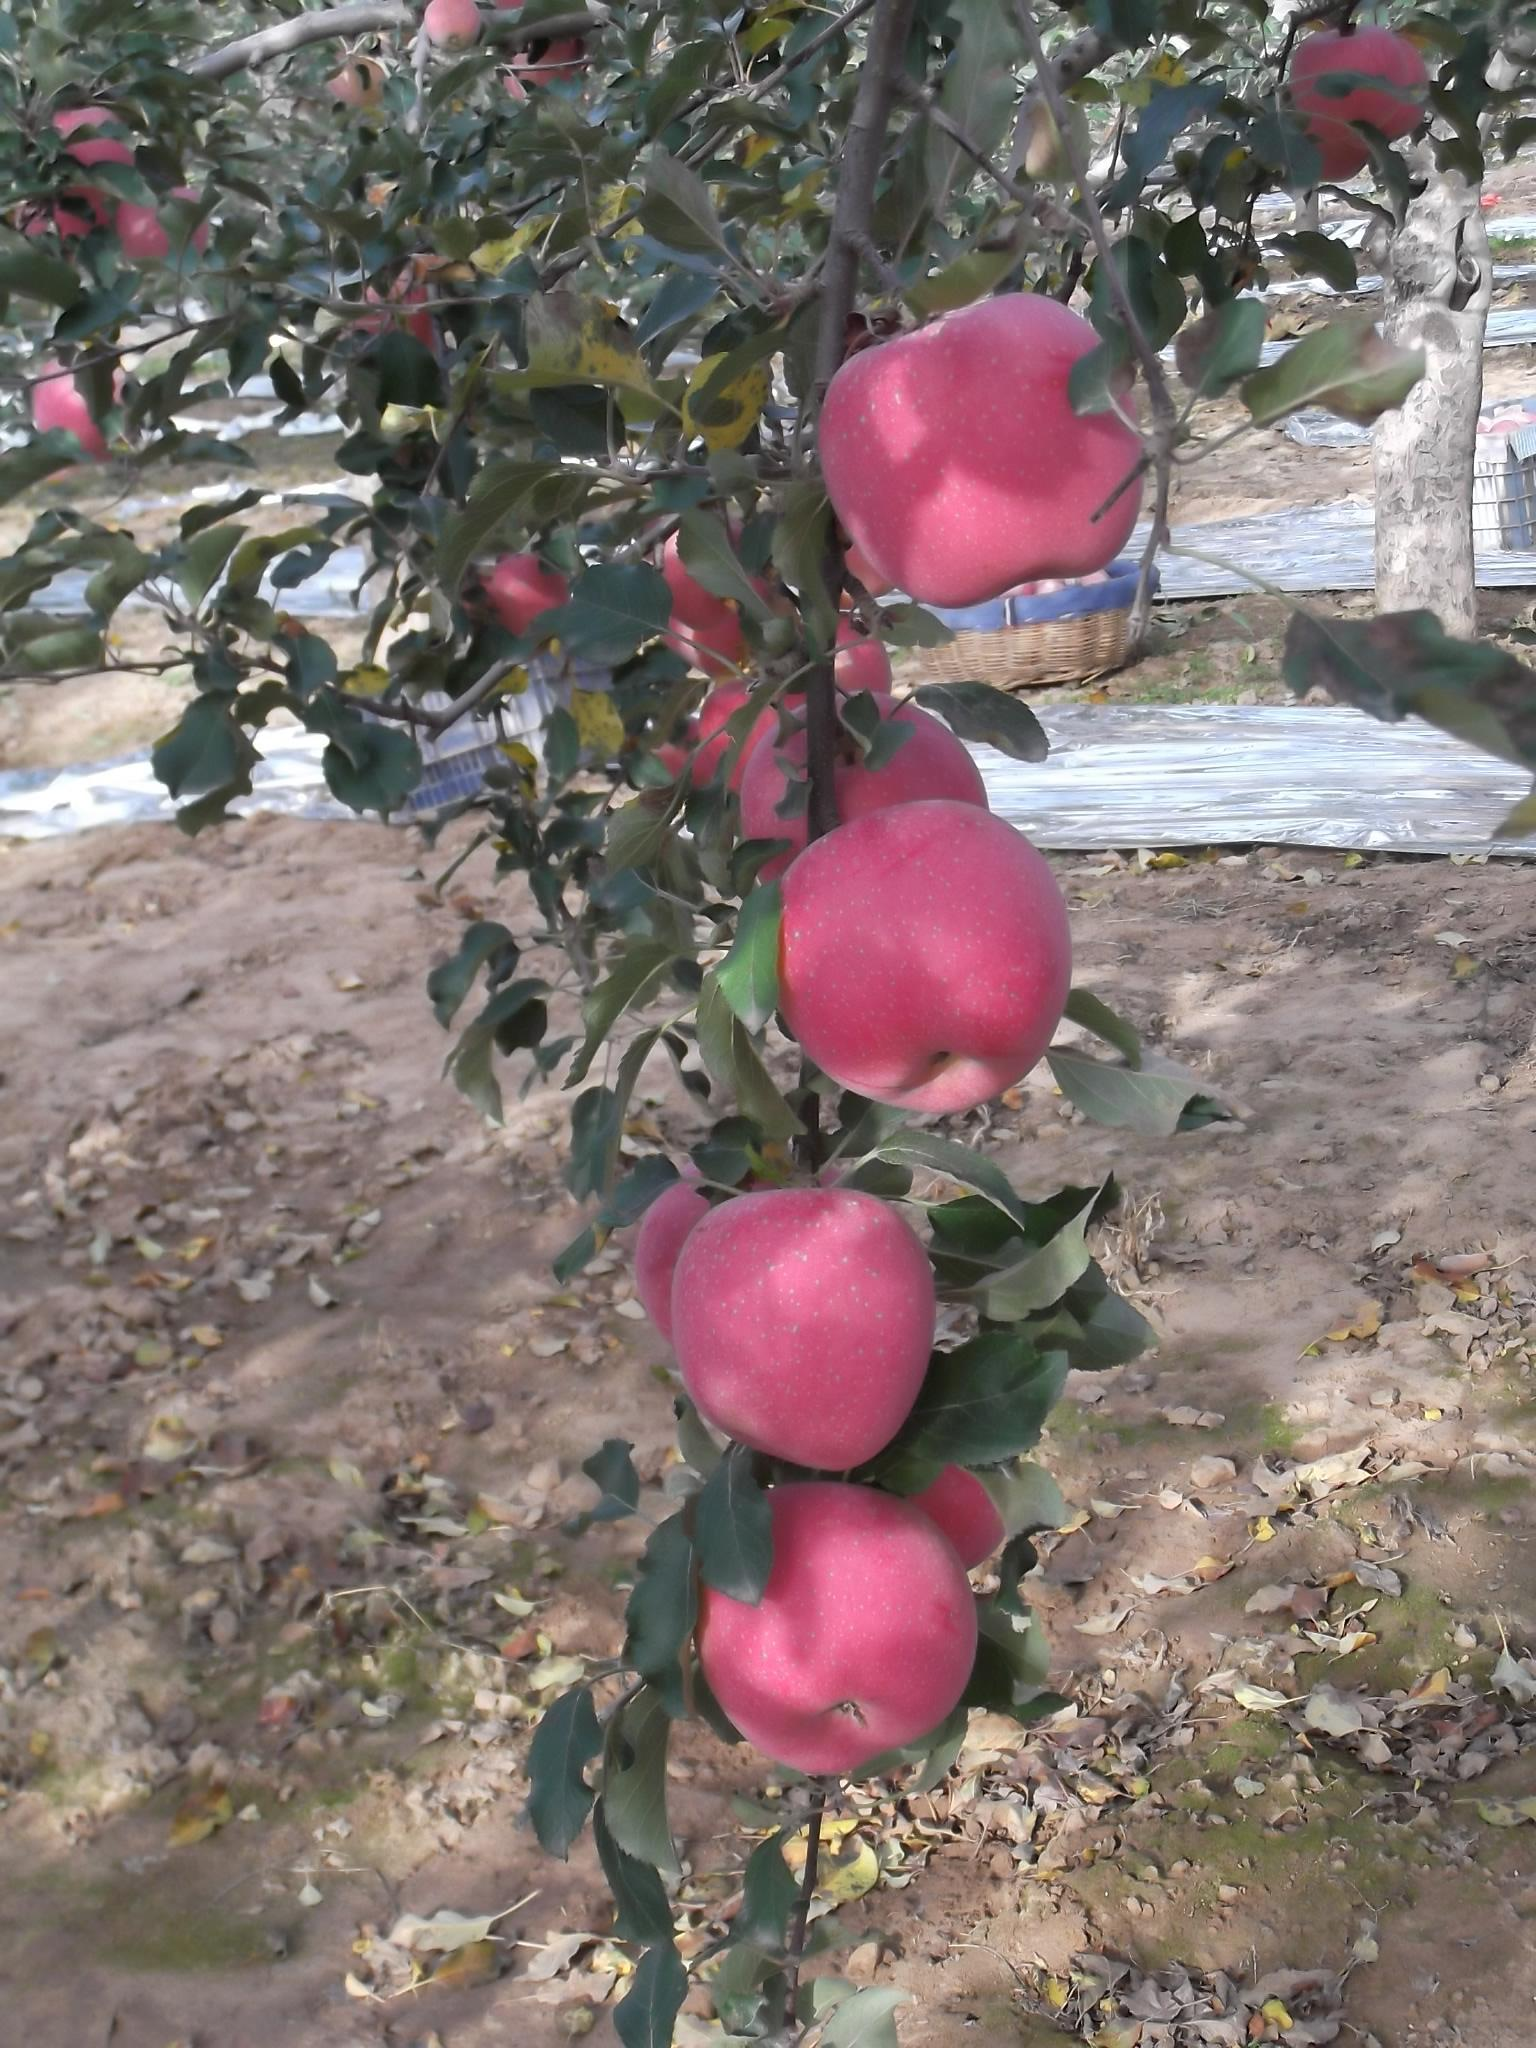apple: (815, 290, 1149, 613), (766, 797, 1070, 1105), (708, 1487, 979, 1769), (658, 1179, 928, 1461), (473, 548, 570, 637)
